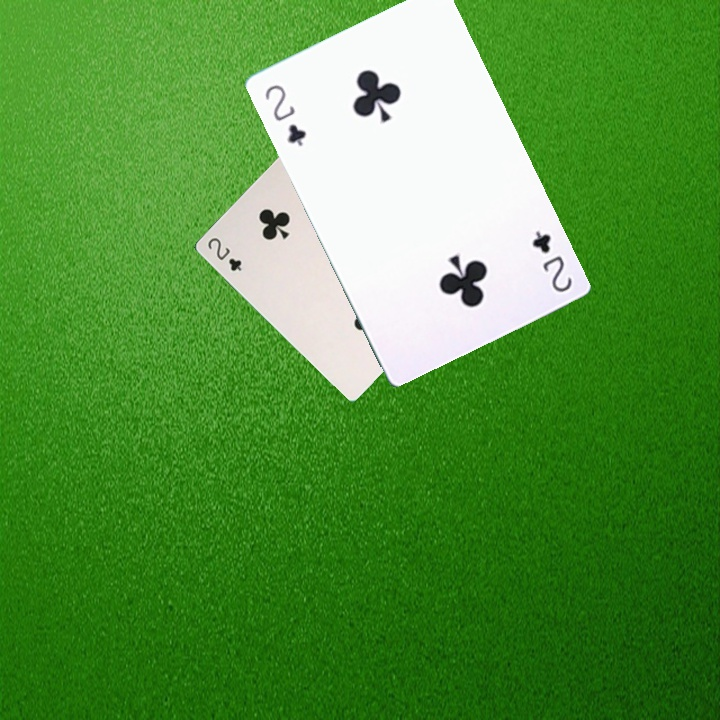2c: (260, 80, 309, 149), (527, 226, 575, 295), (204, 233, 245, 274)
